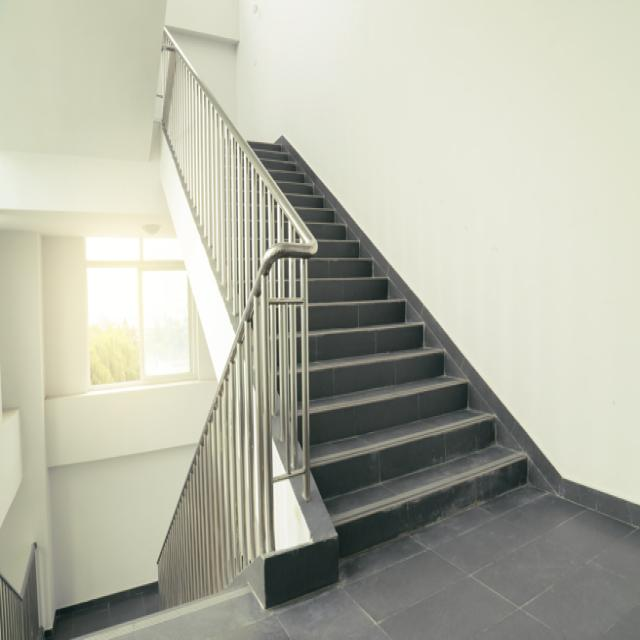Stairs: (1, 22, 556, 640)
